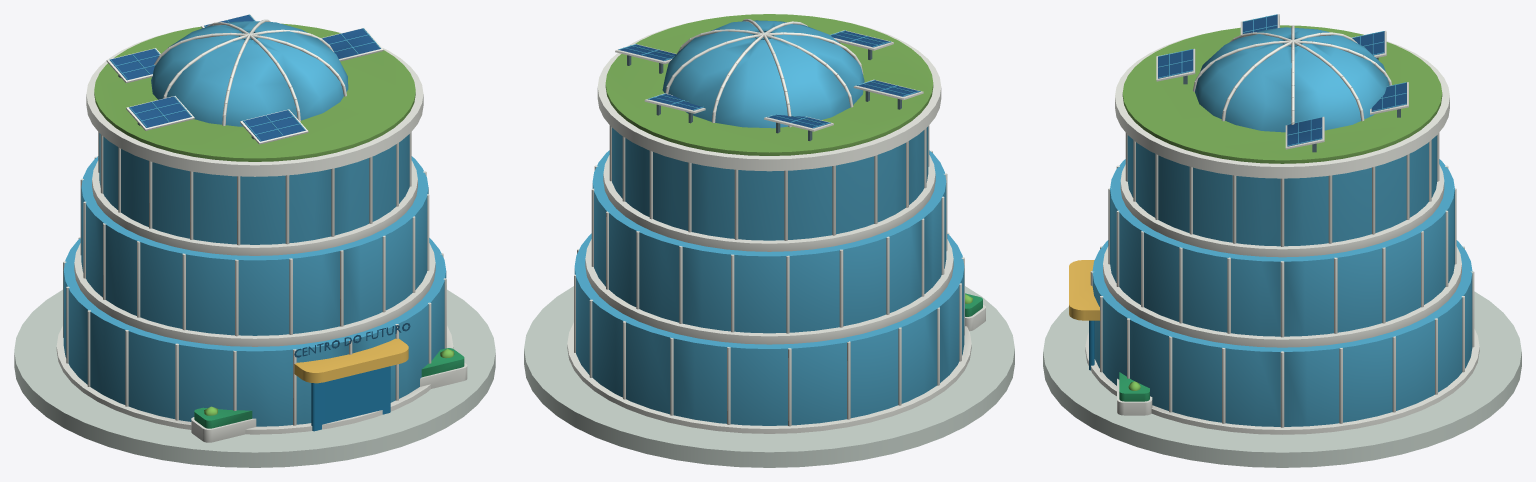
The model's file is eco-dome-low.glb.
The picture shows the model from 3 angles, left to right: view 1: azimuth 30°, elevation 25°; view 2: azimuth 150°, elevation 25°; view 3: azimuth 270°, elevation 25°; orthographic projection. The views are drawn at different scales.
Parts seen in each view (by area): view 1: curved blue facade, rounded floor edge, circular public forecourt, living roof, photovoltaic cells, automatic glass doors, entry canopy, planter foliage, identity CENTRO DO FUTURO; view 2: curved blue facade, rounded floor edge, circular public forecourt, living roof, photovoltaic cells; view 3: curved blue facade, rounded floor edge, circular public forecourt, living roof, photovoltaic cells, entry canopy, planter foliage.
Boxes of the visible parts, left/top/right/bottom form: curved blue facade: left=63, top=14, right=446, bottom=426; rounded floor edge: left=56, top=14, right=467, bottom=442; circular public forecourt: left=14, top=289, right=495, bottom=467; living roof: left=94, top=23, right=415, bottom=161; photovoltaic cells: left=109, top=15, right=380, bottom=141; automatic glass doors: left=311, top=366, right=390, bottom=431; entry canopy: left=294, top=338, right=408, bottom=383; planter foliage: left=194, top=348, right=464, bottom=428; identity CENTRO DO FUTURO: left=294, top=323, right=410, bottom=357; curved blue facade: left=574, top=20, right=964, bottom=425; rounded floor edge: left=567, top=19, right=985, bottom=433; circular public forecourt: left=524, top=286, right=1014, bottom=467; living roof: left=605, top=14, right=933, bottom=155; photovoltaic cells: left=620, top=31, right=920, bottom=128; curved blue facade: left=1092, top=14, right=1472, bottom=426; rounded floor edge: left=1085, top=14, right=1479, bottom=434; circular public forecourt: left=1043, top=291, right=1521, bottom=467; living roof: left=1122, top=25, right=1442, bottom=163; photovoltaic cells: left=1158, top=14, right=1406, bottom=146; entry canopy: left=1069, top=260, right=1100, bottom=320; planter foliage: left=1119, top=372, right=1149, bottom=401.
Bounding box in the file's own units: 6.8 × 5.11 × 6.8.
